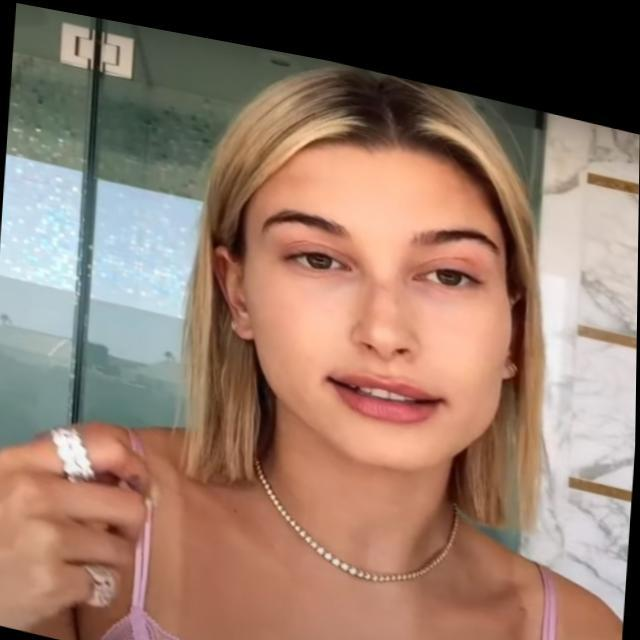Nonhelmet: (175, 63, 551, 530)
